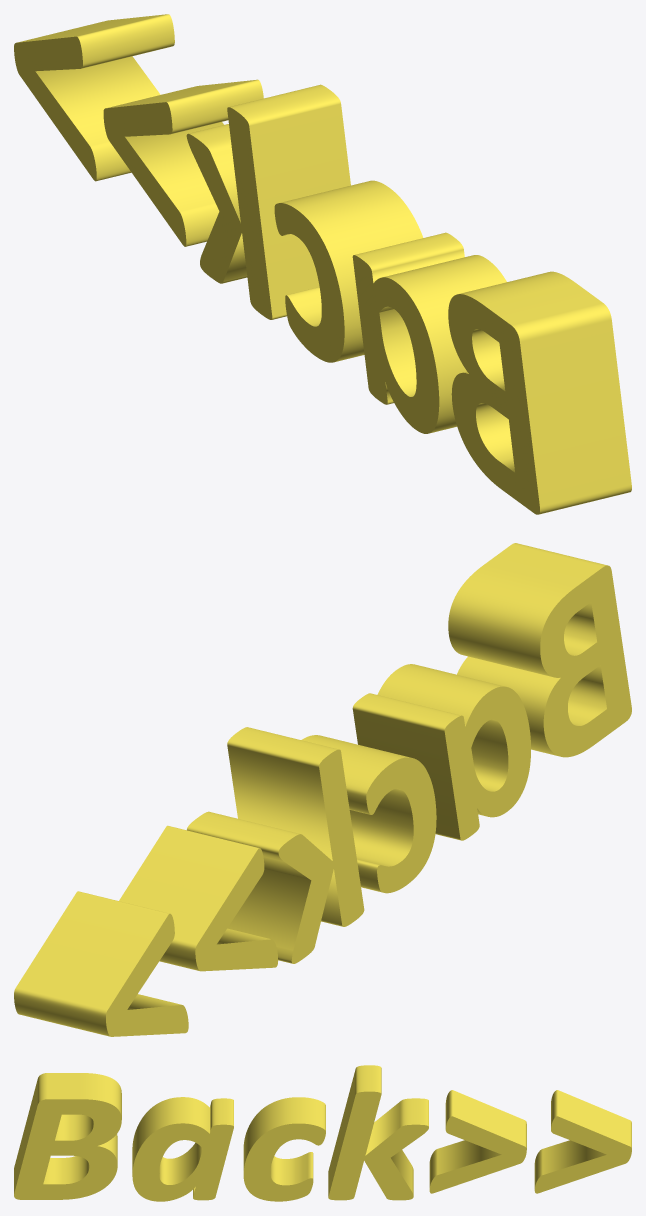
File: back.glb
3 renders of one model, top to bottom at view 1: azimuth 30°, elevation 25°; view 2: azimuth 150°, elevation 25°; view 3: azimuth 270°, elevation 25°, orthographic. The views are drawn at different scales.
Parts seen in each view (by area): view 1: Text; view 2: Text; view 3: Text.
Part boxes in pixels (x1,y1,x2,y2): Text: (14,14,631,514); Text: (14,543,631,1036); Text: (14,1065,631,1201).
Bounding box in the file's own units: 0.34 × 0.6626 × 3.37.
